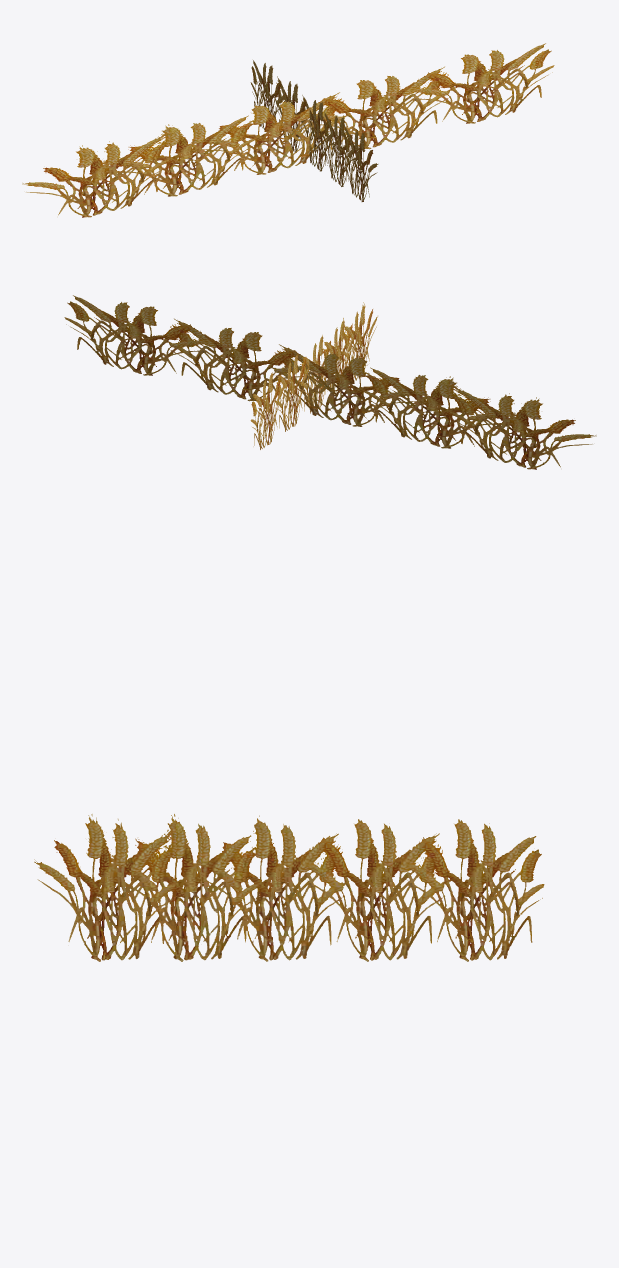
The model's file is weat.fbx.
3 views of the same model, one above another, from view 1: azimuth 30°, elevation 25°; view 2: azimuth 150°, elevation 25°; view 3: azimuth 270°, elevation 25° (orthographic). The views are drawn at different scales.
Visible parts, largest first — view 1: Weat; view 2: Weat; view 3: Weat.
Boxes of the visible parts, x1,y1,x2,y2 form: Weat: [22, 43, 554, 217]; Weat: [64, 295, 596, 469]; Weat: [34, 814, 544, 961].
Bounding box in the file's own units: 539 × 69.29 × 224.
1 material, 1 textured.
